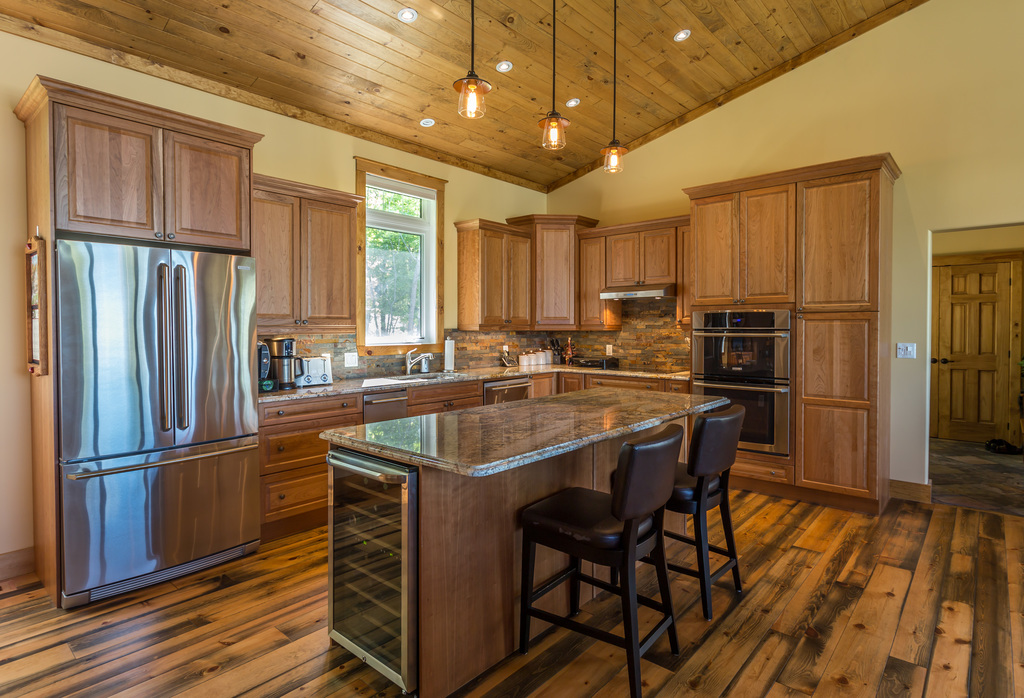cabinet door: (49, 99, 156, 228), (163, 137, 243, 240), (804, 188, 870, 307), (302, 202, 354, 322), (806, 408, 873, 494), (254, 189, 300, 313), (804, 319, 868, 405), (739, 193, 790, 295), (685, 204, 734, 299), (532, 225, 574, 317), (268, 473, 330, 509), (479, 228, 505, 313), (269, 426, 331, 460), (269, 398, 359, 421), (643, 225, 676, 287), (578, 237, 601, 322), (506, 237, 530, 318), (610, 237, 635, 283)
door: (939, 270, 1009, 430)
handle: (140, 260, 175, 433), (82, 447, 253, 473), (171, 270, 196, 428), (698, 375, 792, 405), (329, 451, 396, 489), (699, 319, 798, 343), (362, 392, 403, 409)
refrigerator door: (60, 241, 173, 447), (70, 456, 253, 544), (173, 246, 244, 431), (335, 451, 403, 639)
